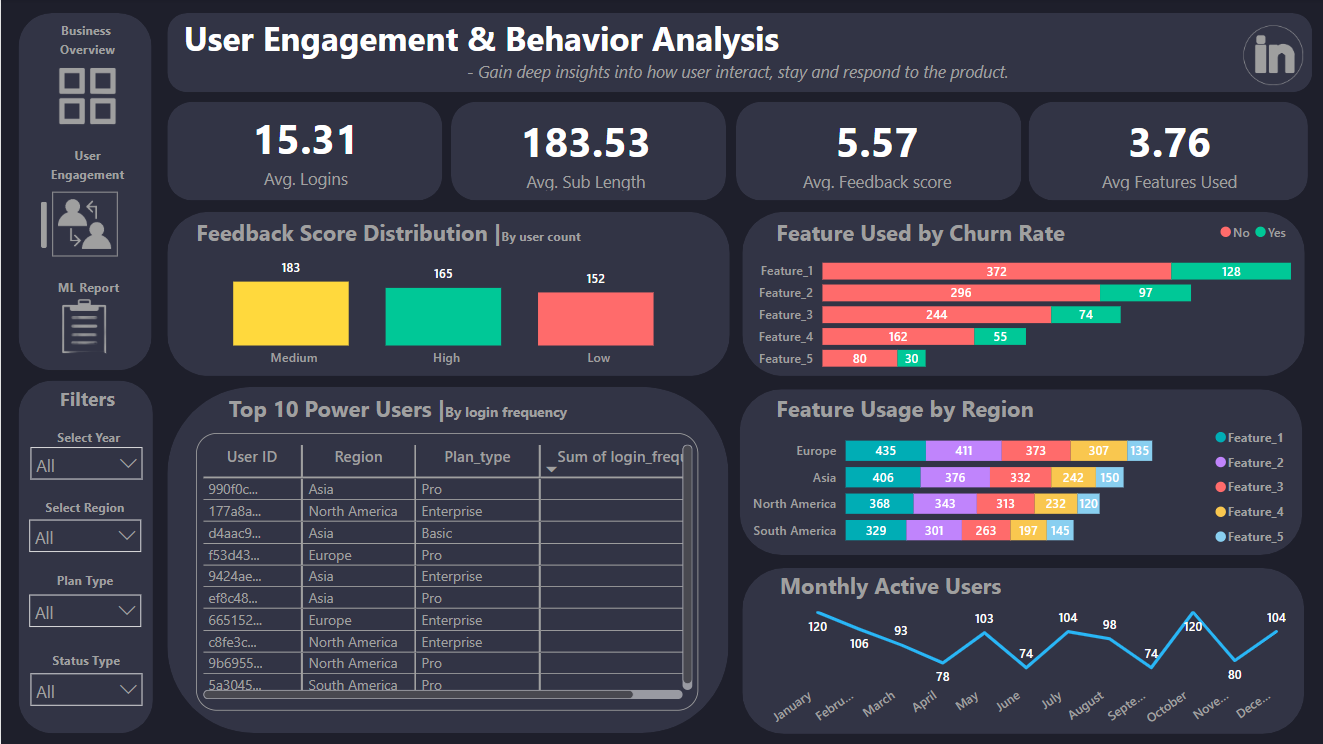

The page's visual inventory and layout, read from the dashboard file:
{"tool":"powerbi","page":{"name":"page2","canvas":[1280,720],"ordinal":1},"visuals":[{"type":"shape","box":[160.1,14.4,1105.2,76.5],"z":0},{"type":"shape","box":[17.3,14.4,128.4,344.8],"z":1000},{"type":"shape","box":[17.3,369.3,129.8,340.5],"z":2000},{"type":"textbox","box":[160.1,11.5,1095.1,79.4],"z":3000},{"type":"shape","box":[709,99.6,275.6,95.2],"z":4000},{"type":"shape","box":[160.1,100,265.5,95.2],"z":5000},{"type":"shape","box":[434.3,99.6,265.5,95.2],"z":6000},{"type":"shape","box":[991.2,99.6,269.8,95.2],"z":7000},{"type":"card","fields":{"Values":["Data.Avg. Logins"]},"box":[161.7,96.5,265.4,97.7],"z":8000},{"type":"shape","box":[160.1,206.3,543,158.7],"z":9000},{"type":"card","fields":{"Values":["Data.Avg. Sub Length"]},"box":[431.4,99.6,265.5,95.2],"z":10000},{"type":"card","fields":{"Values":["Data.Avg Features Used per User"]},"box":[995.5,99.6,265.5,95.2],"z":11000},{"type":"card","fields":{"Values":["Data.Avg. Feedback"]},"box":[709.8,99.6,272.7,95.2],"z":12000},{"type":"shape","box":[715.6,206.3,543,158.7],"z":13000},{"type":"shape","box":[160.5,375.2,541.7,334.2],"z":14000},{"type":"shape","box":[713,377.6,542.9,160],"z":15000},{"type":"columnChart","title":"Plan Type Distribution","fields":{"Y":["Count(Data.user_id)"],"Category":["Data.Feedback Category"]},"box":[160.1,239.5,539.6,125.5],"z":16000},{"type":"textbox","box":[183.2,206.3,519.4,43.3],"z":17000},{"type":"barChart","title":"Plan Type Distribution","fields":{"Y":["CountNonNull(Data.user_id)"],"Series":["Data.churn"],"Category":["Data.Attribute"]},"box":[715.6,206.3,539.6,158.7],"z":18000},{"type":"textbox","box":[743,206.3,360.7,43.3],"z":19000},{"type":"textbox","box":[210,378,365.6,43.4],"z":20000},{"type":"textbox","box":[743,378,505,47.6],"z":21000},{"type":"slicer","fields":{"Values":["Data.region"]},"box":[17,495,128.4,47.6],"z":22000},{"type":"textbox","box":[17.3,477,128.4,30.3],"z":23000},{"type":"textbox","box":[20.2,409,128.4,30.3],"z":24000},{"type":"slicer","fields":{"Values":["Data.signup_date.Variation.Date Hierarchy.Year"]},"box":[18,425,128.4,47.6],"z":25000},{"type":"textbox","box":[18,625,128.4,30.3],"z":26000},{"type":"slicer","fields":{"Values":["Data.User Status"]},"box":[18,643.5,128.4,47.6],"z":27000},{"type":"textbox","box":[17.3,548,128.4,30.3],"z":28000},{"type":"slicer","fields":{"Values":["Data.plan_type"]},"box":[17.3,567,128.4,47.6],"z":29000},{"type":"textbox","box":[20.2,369.3,125.5,40.4],"z":30000},{"type":"image","box":[44.7,280,77.9,75],"z":31000},{"type":"textbox","box":[18.8,17,128.4,51.9],"z":32000},{"type":"textbox","box":[19,138,128.4,51.9],"z":33000},{"type":"image","box":[49,63,67.8,66.4],"z":34000},{"type":"image","box":[50,187,63,62],"z":35000},{"type":"shape","box":[39,196.2,5.8,44.7],"z":36000},{"type":"tableEx","fields":{"Values":["Data.Short User ID","Data.region","Data.Plan_type","Sum(Data.login_frequency)"]},"box":[188,420,485,268.3],"z":37000},{"type":"shape","box":[715.6,549.7,542.5,160.1],"z":38000},{"type":"barChart","title":"Plan Type Distribution","fields":{"Y":["Sum(Data.features_used_count)"],"Category":["Data.Region"],"Series":["Data.Attribute"]},"box":[713,409,539.3,125.5],"z":39000},{"type":"textbox","box":[747.4,548.2,505,47.6],"z":39001},{"type":"lineChart","title":"Plan Type Distribution","fields":{"Category":["Data.signup_date.Variation.Date Hierarchy.Month"],"Y":["Data.Active Users"]},"box":[728.6,578.5,528.1,129.8],"z":39002}]}

Visuals, with their boxes in screenshot pixels (x1, y1, x2, y2), scaled from the page's 1280x720 canvas onto the 1323x744 screenshot:
shape: rect(165, 15, 1308, 94)
shape: rect(18, 15, 151, 371)
shape: rect(18, 382, 152, 733)
textbox: rect(165, 12, 1297, 94)
shape: rect(733, 103, 1018, 201)
shape: rect(165, 103, 440, 202)
shape: rect(449, 103, 723, 201)
shape: rect(1024, 103, 1303, 201)
card - Data.Avg. Logins: rect(167, 100, 441, 201)
shape: rect(165, 213, 727, 377)
card - Data.Avg. Sub Length: rect(446, 103, 720, 201)
card - Data.Avg Features Used per User: rect(1029, 103, 1303, 201)
card - Data.Avg. Feedback: rect(734, 103, 1016, 201)
shape: rect(740, 213, 1301, 377)
shape: rect(166, 388, 726, 733)
shape: rect(737, 390, 1298, 556)
"Plan Type Distribution" columnChart: rect(165, 247, 723, 377)
textbox: rect(189, 213, 726, 258)
"Plan Type Distribution" barChart: rect(740, 213, 1297, 377)
textbox: rect(768, 213, 1141, 258)
textbox: rect(217, 391, 595, 435)
textbox: rect(768, 391, 1290, 440)
slicer - Data.region: rect(18, 512, 150, 561)
textbox: rect(18, 493, 151, 524)
textbox: rect(21, 423, 154, 454)
slicer - Data.signup_date.Variation.Date Hierarchy.Year: rect(19, 439, 151, 488)
textbox: rect(19, 646, 151, 677)
slicer - Data.User Status: rect(19, 665, 151, 714)
textbox: rect(18, 566, 151, 598)
slicer - Data.plan_type: rect(18, 586, 151, 635)
textbox: rect(21, 382, 151, 423)
image: rect(46, 289, 127, 367)
textbox: rect(19, 18, 152, 71)
textbox: rect(20, 143, 152, 196)
image: rect(51, 65, 121, 134)
image: rect(52, 193, 117, 257)
shape: rect(40, 203, 46, 249)
tableEx - Data.Short User ID x Data.region: rect(194, 434, 696, 711)
shape: rect(740, 568, 1300, 733)
"Plan Type Distribution" barChart: rect(737, 423, 1294, 552)
textbox: rect(773, 566, 1294, 616)
"Plan Type Distribution" lineChart: rect(753, 598, 1299, 732)
